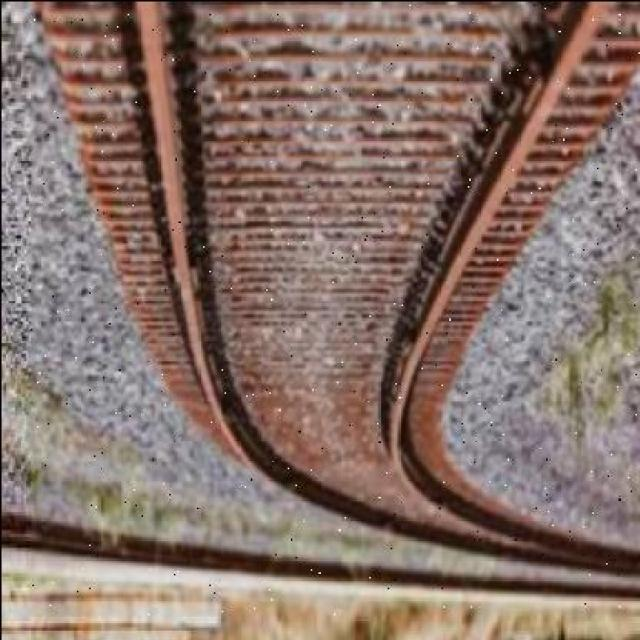rail: (29, 3, 640, 614)
